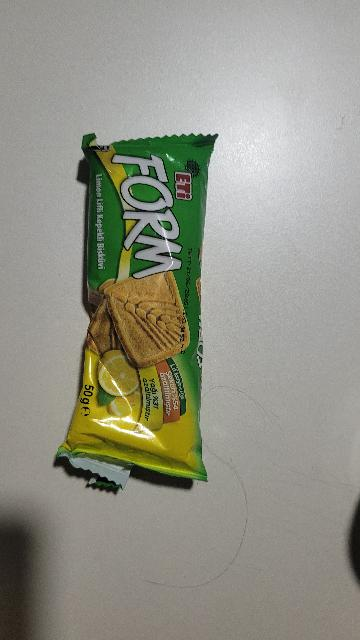Plastik: (55, 116, 219, 502)
